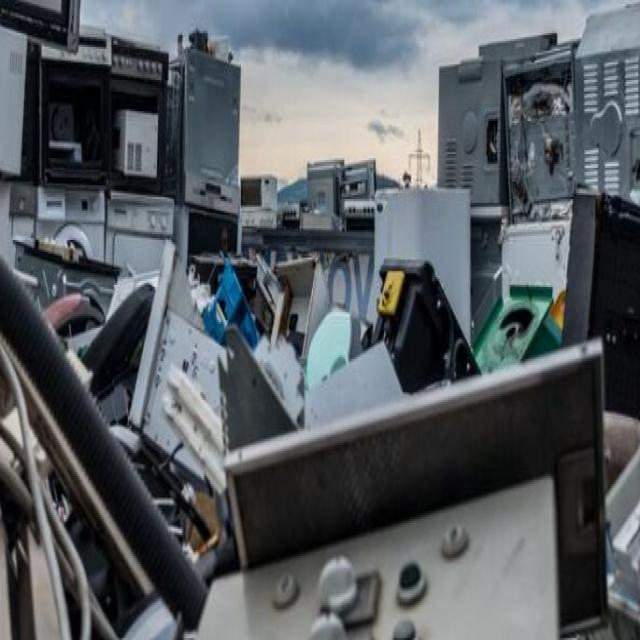electronic: (176, 36, 255, 230), (40, 28, 126, 184), (114, 27, 171, 207), (294, 152, 350, 260), (232, 149, 285, 245)
